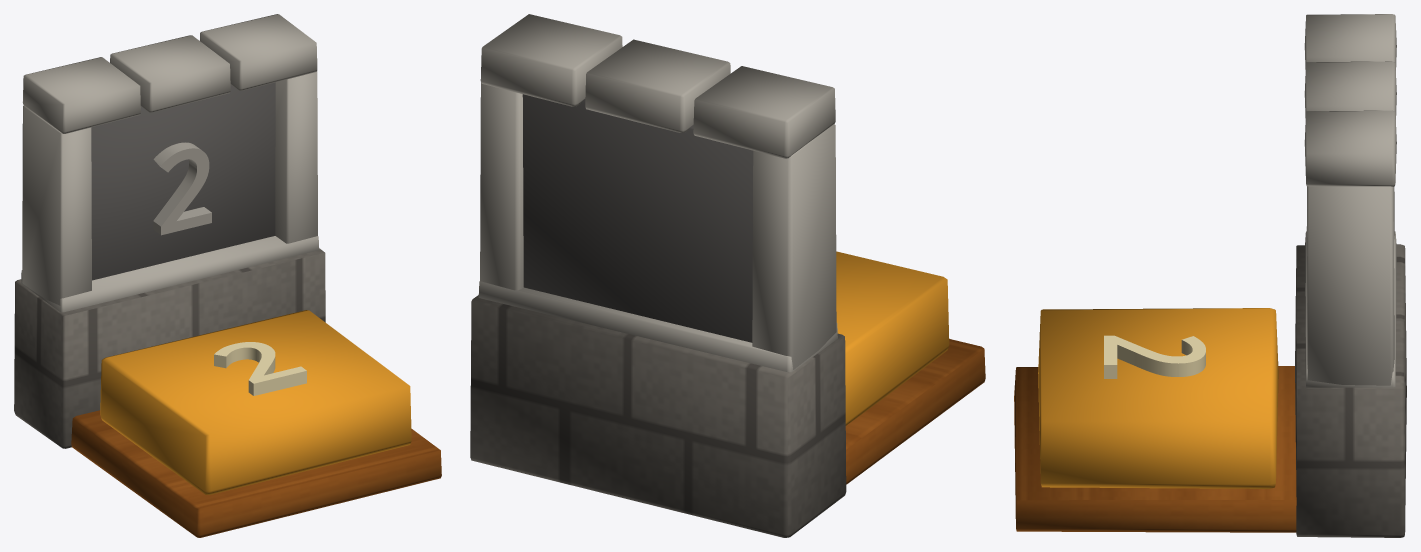
Rendered from 33_array_tile_2.glb.
3 views of the same model, side by side, from view 1: azimuth 30°, elevation 25°; view 2: azimuth 150°, elevation 25°; view 3: azimuth 270°, elevation 25° (orthographic). The views are drawn at different scales.
Visible parts, largest first — view 1: GoldBlock, WallBackPanel, WallPlinth, TileBase, WallPillar_-1, WallPillar_1, WallTopCap_0, WallTopCap_1, WallSill, WallTopCap_2, WallDigit, TileDigit; view 2: WallPlinth, WallBackPanel, WallPillar_-1, GoldBlock, WallTopCap_0, WallTopCap_1, WallPillar_1, WallTopCap_2, TileBase, WallSill; view 3: GoldBlock, WallPlinth, TileBase, WallPillar_1, WallTopCap_2, WallTopCap_1, WallTopCap_0, TileDigit, WallSill.
Boxes of the visible parts, bbox=[...] form: GoldBlock: bbox=[100, 310, 411, 494]; WallBackPanel: bbox=[91, 82, 275, 280]; WallPlinth: bbox=[14, 248, 325, 448]; TileBase: bbox=[71, 410, 441, 537]; WallPillar_-1: bbox=[22, 105, 91, 305]; WallPillar_1: bbox=[275, 71, 317, 243]; WallTopCap_0: bbox=[22, 57, 140, 133]; WallTopCap_1: bbox=[110, 35, 230, 112]; WallSill: bbox=[21, 236, 319, 312]; WallTopCap_2: bbox=[200, 14, 317, 90]; WallDigit: bbox=[153, 142, 211, 235]; TileDigit: bbox=[214, 342, 306, 395]; WallPlinth: bbox=[470, 295, 846, 537]; WallBackPanel: bbox=[522, 94, 753, 342]; WallPillar_-1: bbox=[752, 124, 836, 369]; GoldBlock: bbox=[836, 251, 949, 425]; WallTopCap_0: bbox=[693, 66, 835, 158]; WallTopCap_1: bbox=[585, 39, 730, 132]; WallPillar_1: bbox=[480, 82, 523, 290]; WallTopCap_2: bbox=[480, 14, 622, 106]; TileBase: bbox=[845, 339, 985, 484]; WallSill: bbox=[478, 281, 837, 372]; GoldBlock: bbox=[1038, 308, 1278, 488]; WallPlinth: bbox=[1295, 244, 1406, 537]; TileBase: bbox=[1014, 366, 1296, 532]; WallPillar_1: bbox=[1306, 186, 1394, 385]; WallTopCap_2: bbox=[1304, 110, 1396, 186]; WallTopCap_1: bbox=[1304, 61, 1396, 119]; WallTopCap_0: bbox=[1304, 14, 1396, 70]; TileDigit: bbox=[1104, 335, 1205, 378]; WallSill: bbox=[1305, 231, 1396, 387].
Size of the model in its own units: 0.86 by 1.06 by 0.98.
6 materials, 2 textured.
